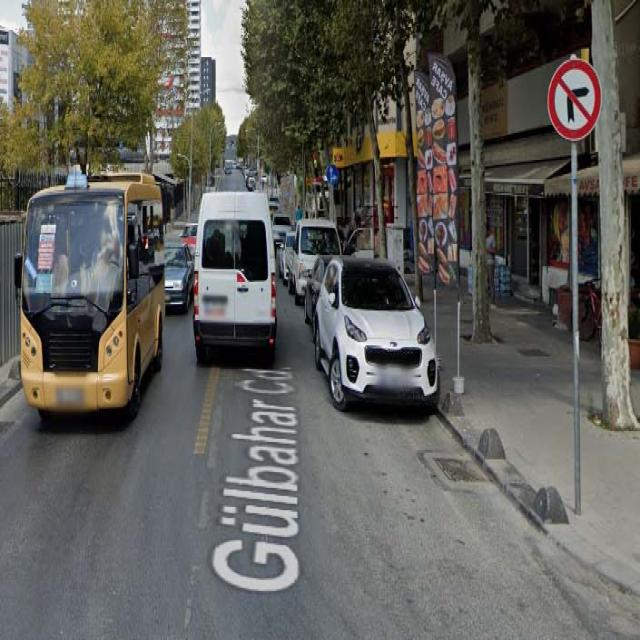sagadonulmez: (546, 59, 603, 141)
